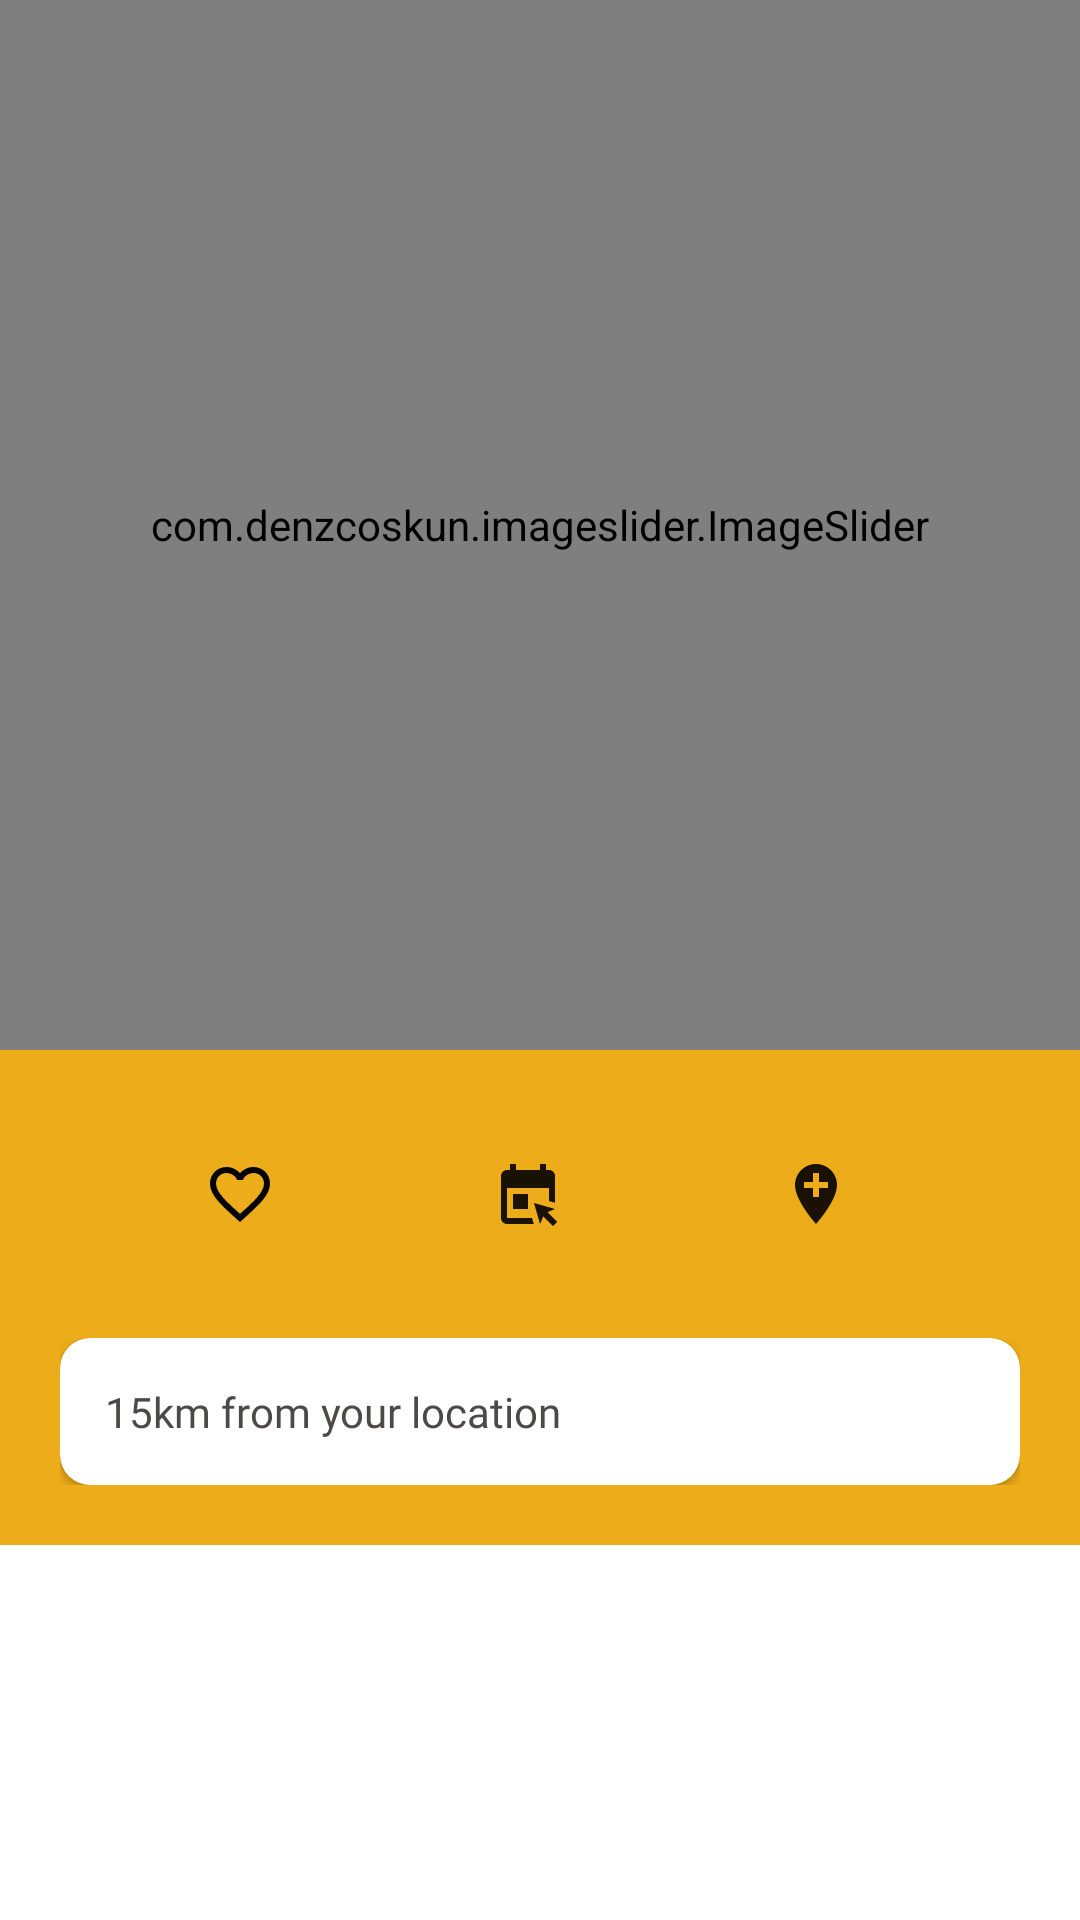

Point at icon controls on the screen. Image size 1080×1920, points as (x,y).
arrived unchecked: (816,1194)
fave unchecked: (240,1194)
plan unchecked: (529,1195)
